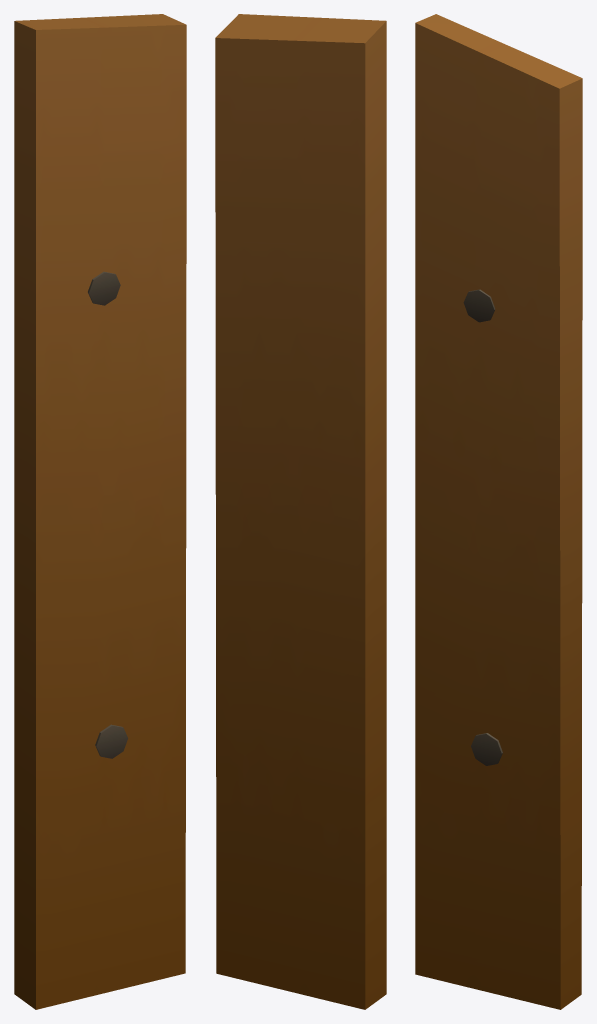
File: Fence_Bit_B.fbx
The picture shows the model from 3 angles, left to right: view 1: azimuth 30°, elevation 25°; view 2: azimuth 150°, elevation 25°; view 3: azimuth 330°, elevation 25°; orthographic projection. The views are drawn at different scales.
Parts seen in each view (by area): view 1: Fence_Bit_B; view 2: Fence_Bit_B; view 3: Fence_Bit_B.
Boxes of the visible parts, x1,y1,x2,y2 form: Fence_Bit_B: (14, 14, 186, 1009); Fence_Bit_B: (215, 14, 386, 1009); Fence_Bit_B: (415, 14, 582, 1009).
Size of the model in its own units: 16 by 4.51 by 100.
Materials: 1 (1 with a texture image).
